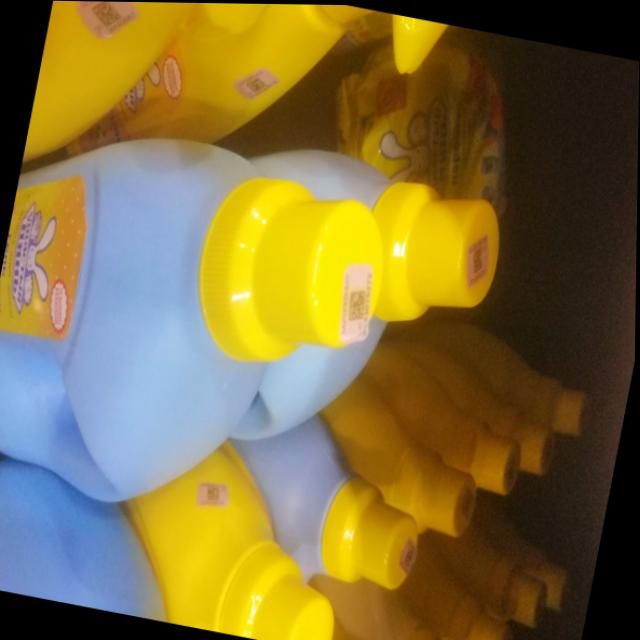datamatrix: (344, 286, 370, 324), (469, 242, 489, 275)
